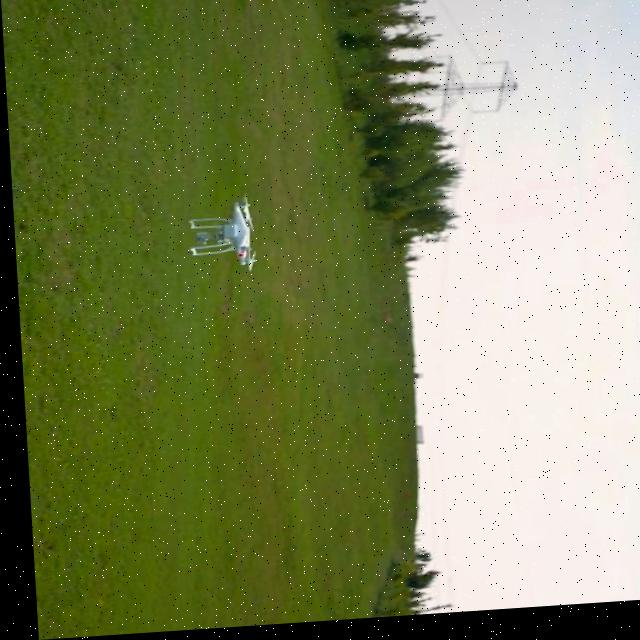drone: (180, 200, 255, 278)
